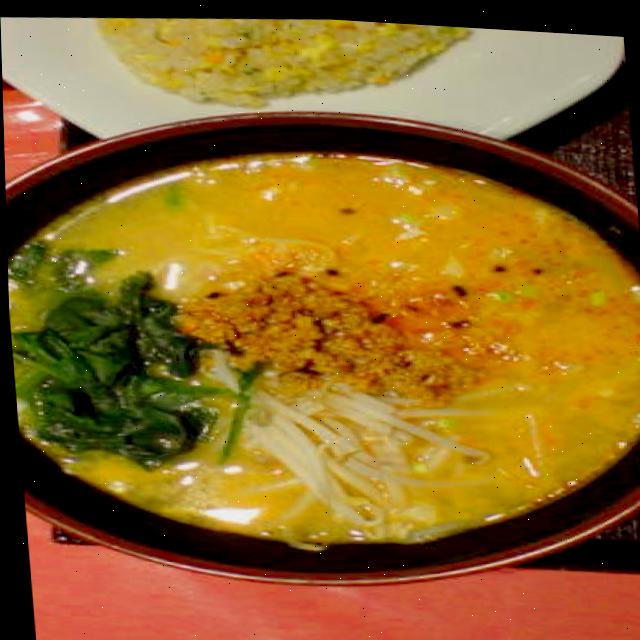面条主食: (2, 66, 640, 626)
